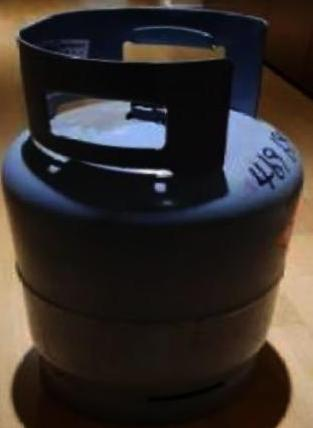cylinder: (1, 0, 313, 428)
